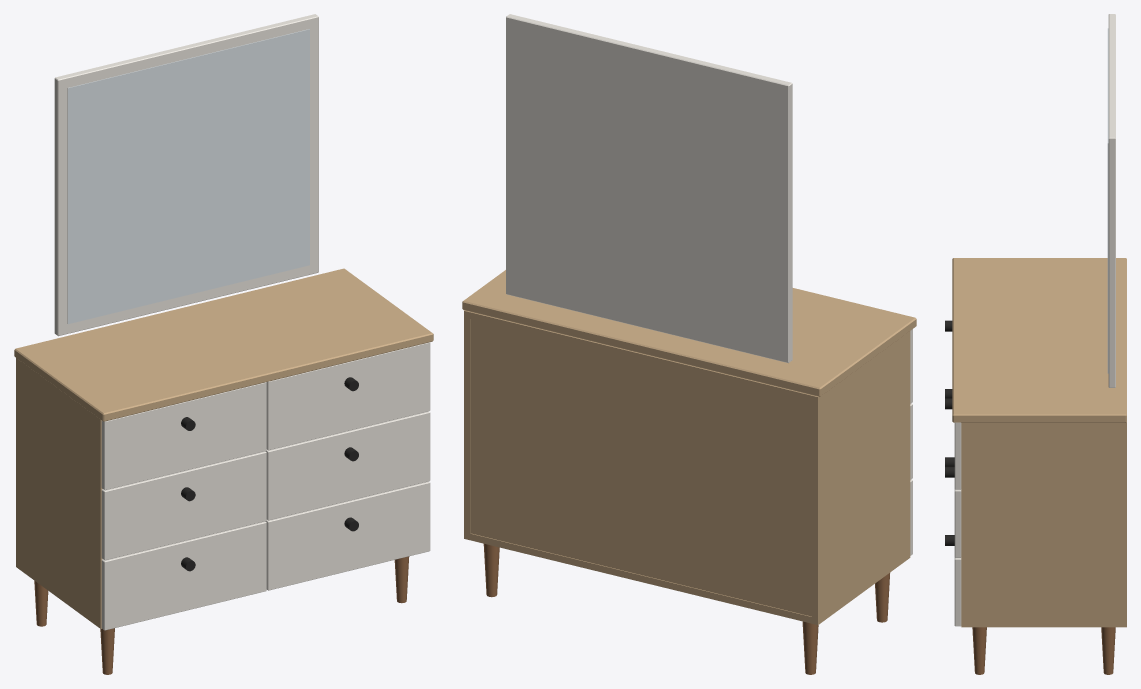
The model's file is 37_komoda_lustro_100.glb.
3 views of the same model, side by side, from view 1: azimuth 30°, elevation 25°; view 2: azimuth 150°, elevation 25°; view 3: azimuth 270°, elevation 25° (orthographic). The views are drawn at different scales.
Parts seen in each view (by area): view 1: Lustro, Wierzch, Korpus, Lustro_rama, Front_szuflada_2, Front_szuflada_3, Front_szuflada_5, Front_szuflada_6, Front_szuflada_1, Front_szuflada_4, Nogi, Uchwyty; view 2: Korpus, Lustro_rama, Wierzch, Nogi; view 3: Korpus, Wierzch, Lustro_rama, Nogi, Lustro, Uchwyty, Front_szuflada_5, Front_szuflada_6, Front_szuflada_4.
Boxes of the visible parts, bbox=[...] form: Lustro: bbox=[67, 29, 309, 324]; Wierzch: bbox=[14, 268, 433, 421]; Korpus: bbox=[16, 358, 102, 628]; Lustro_rama: bbox=[54, 14, 318, 336]; Front_szuflada_2: bbox=[101, 451, 266, 560]; Front_szuflada_3: bbox=[101, 521, 266, 630]; Front_szuflada_5: bbox=[265, 411, 430, 520]; Front_szuflada_6: bbox=[265, 481, 430, 590]; Front_szuflada_1: bbox=[101, 382, 266, 490]; Front_szuflada_4: bbox=[266, 342, 430, 450]; Nogi: bbox=[34, 556, 409, 674]; Uchwyty: bbox=[181, 377, 358, 571]; Korpus: bbox=[464, 310, 910, 624]; Lustro_rama: bbox=[506, 14, 792, 362]; Wierzch: bbox=[462, 270, 916, 396]; Nogi: bbox=[483, 543, 889, 674]; Korpus: bbox=[961, 422, 1126, 627]; Wierzch: bbox=[952, 258, 1126, 422]; Lustro_rama: bbox=[1108, 14, 1115, 387]; Nogi: bbox=[972, 627, 1115, 674]; Lustro: bbox=[1107, 28, 1108, 373]; Uchwyty: bbox=[945, 320, 954, 545]; Front_szuflada_5: bbox=[954, 489, 961, 557]; Front_szuflada_6: bbox=[954, 558, 961, 626]; Front_szuflada_4: bbox=[954, 422, 961, 489].
Bounding box in the file's own units: 1.01 × 1.58 × 0.494.
